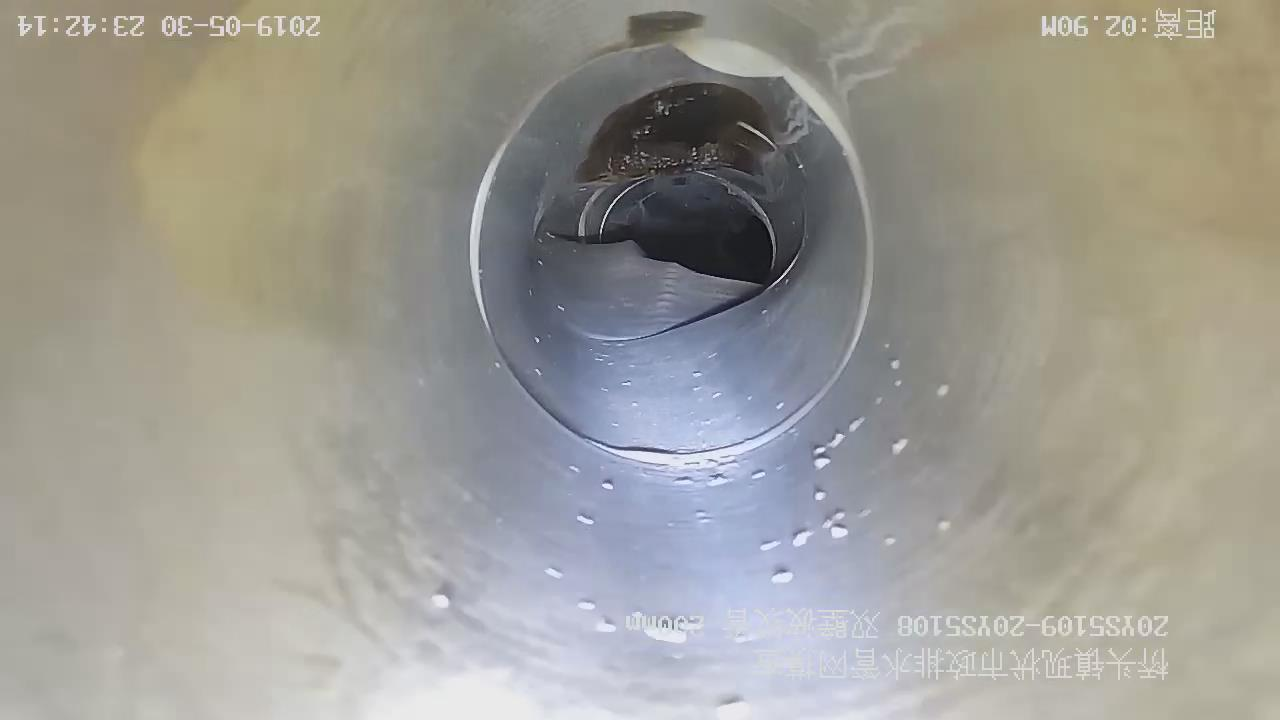BX: (526, 224, 808, 366)
CKTJ: (562, 30, 874, 469), (470, 116, 528, 331)
